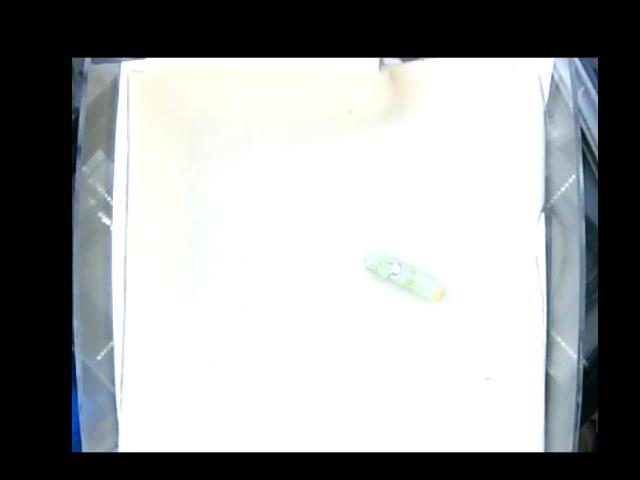Battery: (363, 251, 442, 300)
